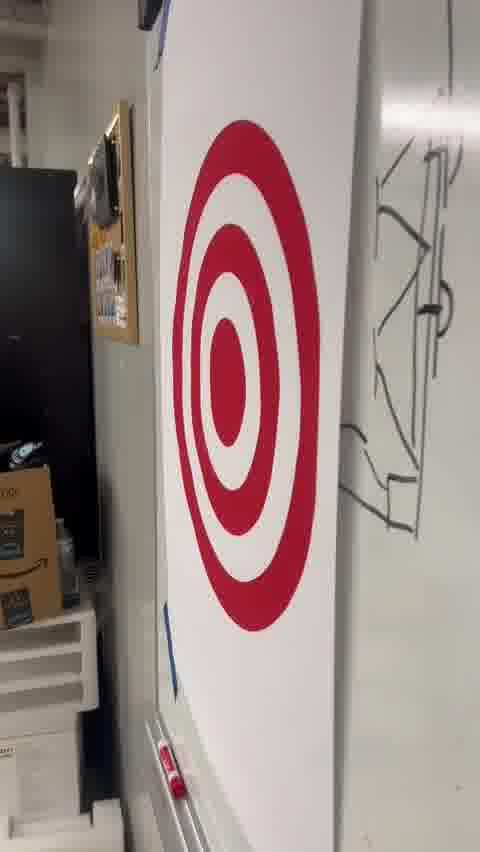target_red: (169, 120, 322, 628)
